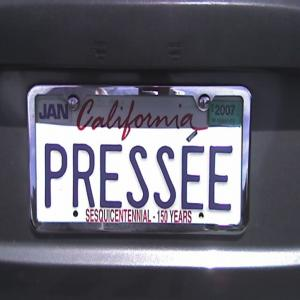Vehicle-registration-plate: (28, 84, 254, 233)
